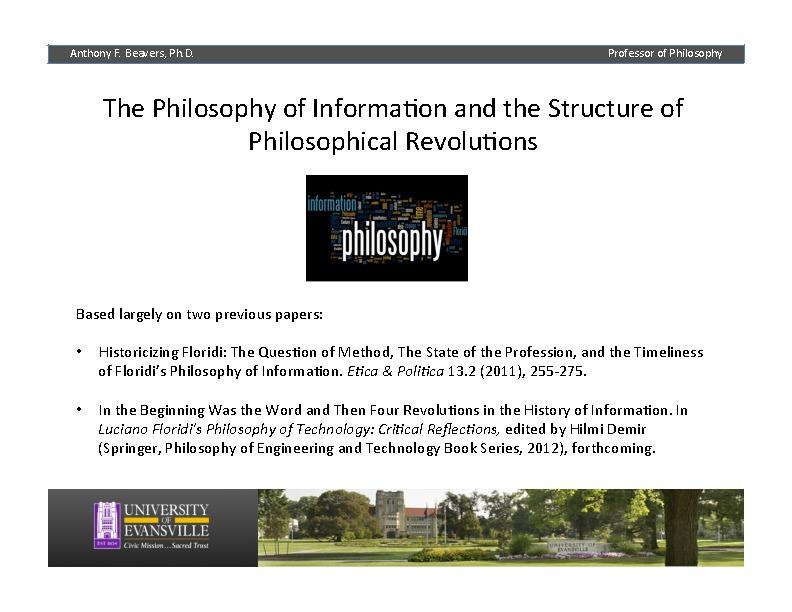paragraph: (62, 287, 744, 467)
title: (100, 90, 715, 161)
